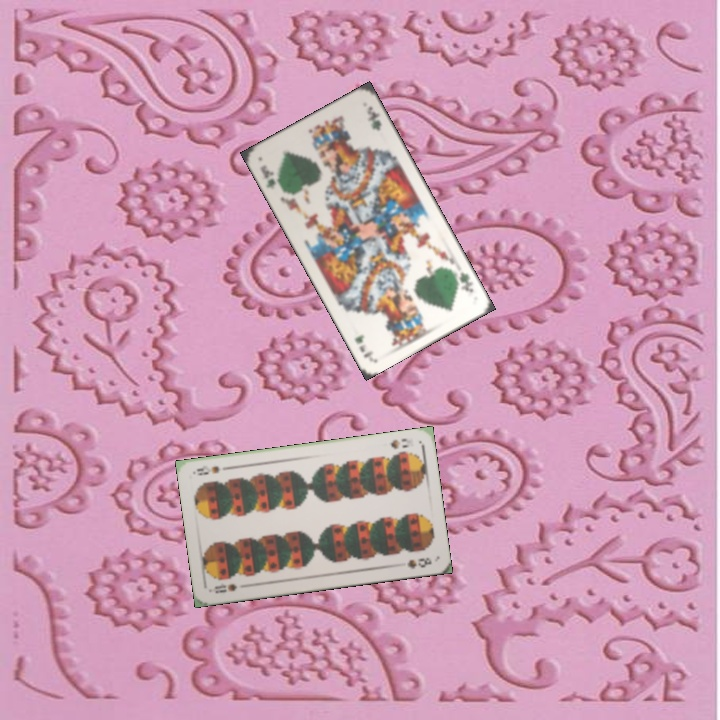GK: (256, 161, 278, 192), (456, 268, 476, 295)
S8: (211, 579, 239, 596), (386, 434, 411, 451)
